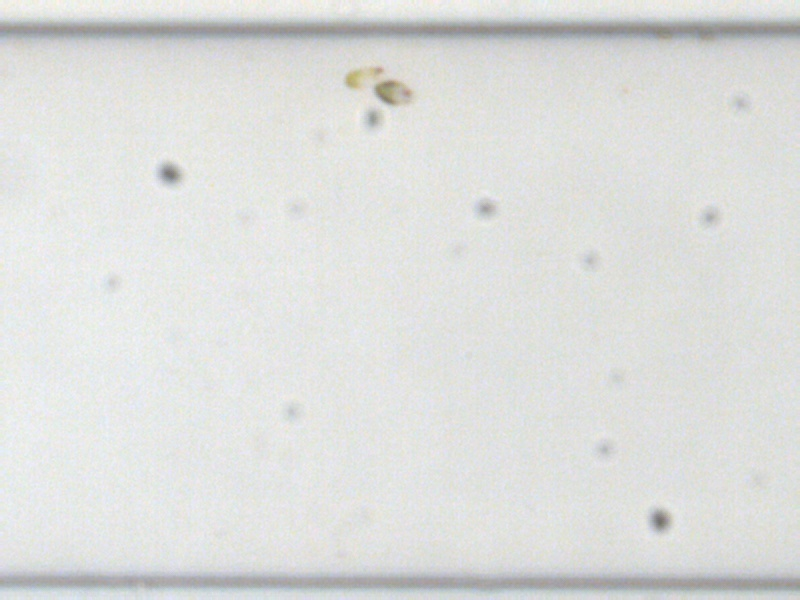Dunaliella salina: (370, 76, 419, 107), (343, 62, 389, 89)
